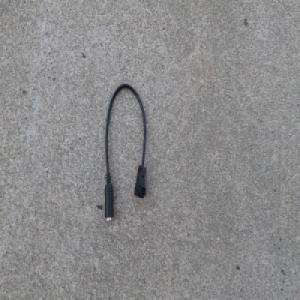Wire: (102, 80, 146, 223)
